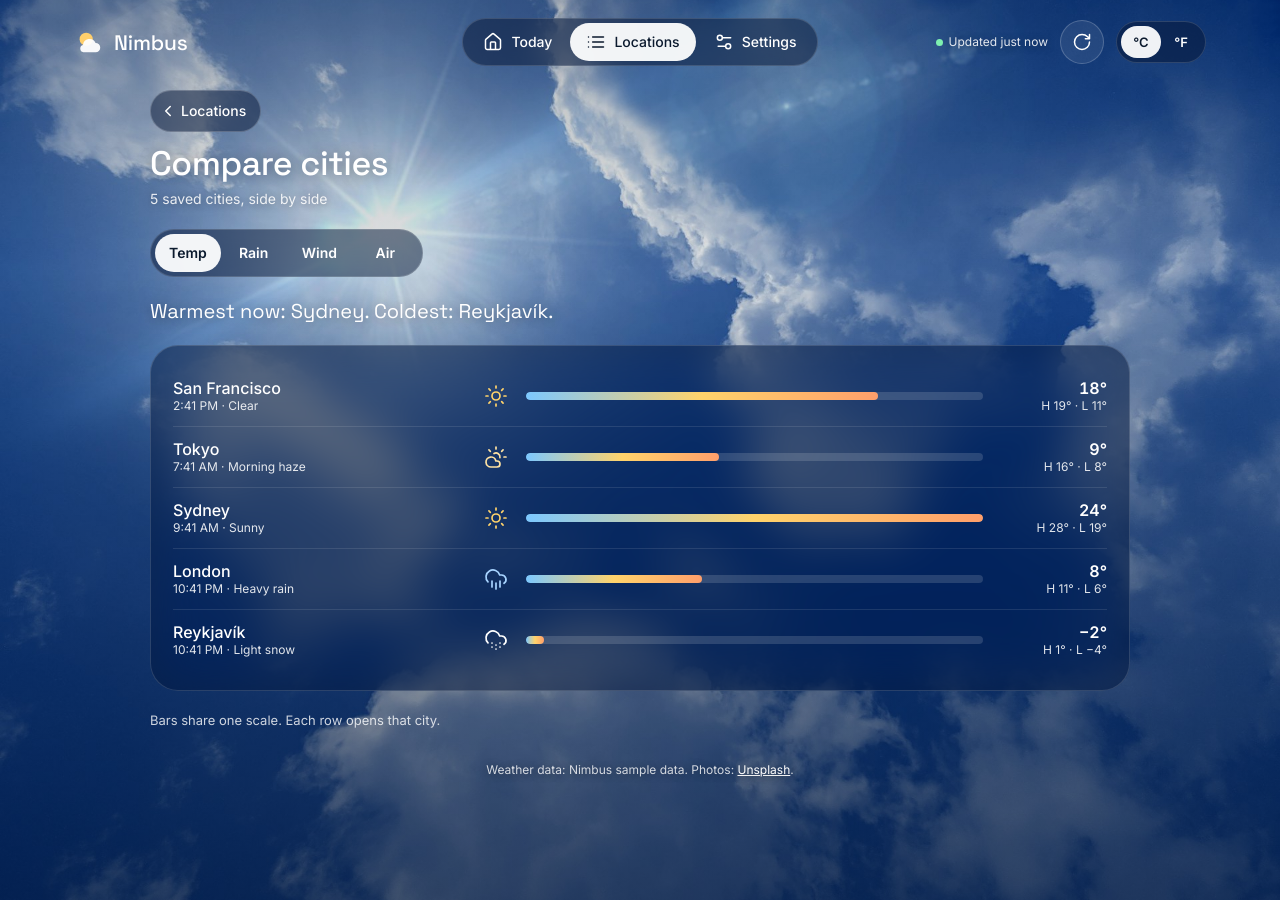
it: Nimbus app with sample data › shows the outlook, next 2 hours, warnings and compare screens
Later steps or results of the test are not shown.
Click the radio button labelled "Wind" at {"x": 320, "y": 253}, box [287,234,352,272]
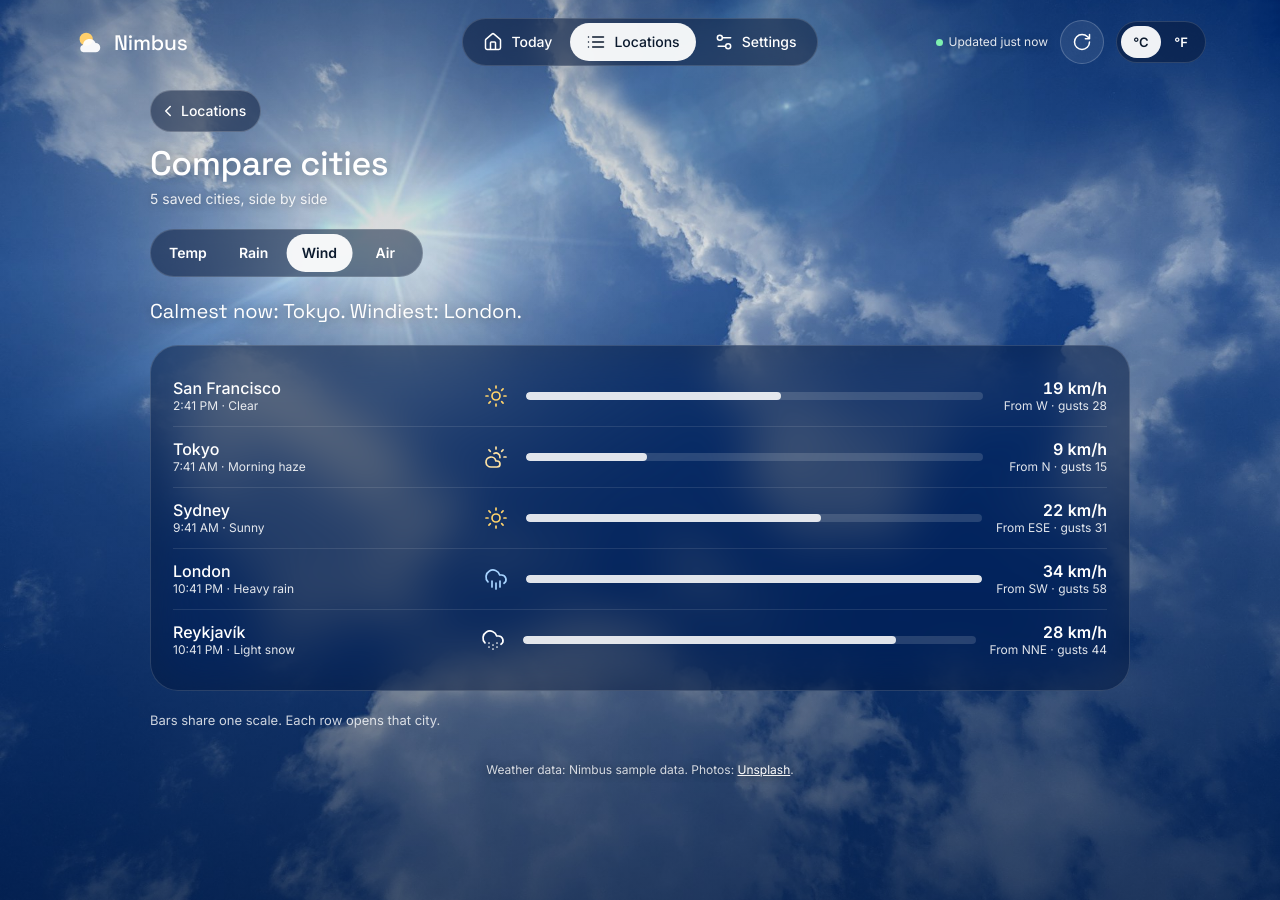
Now the text "Calmest now: Tokyo. Windiest: London." is shown, box [150,298,522,324]
